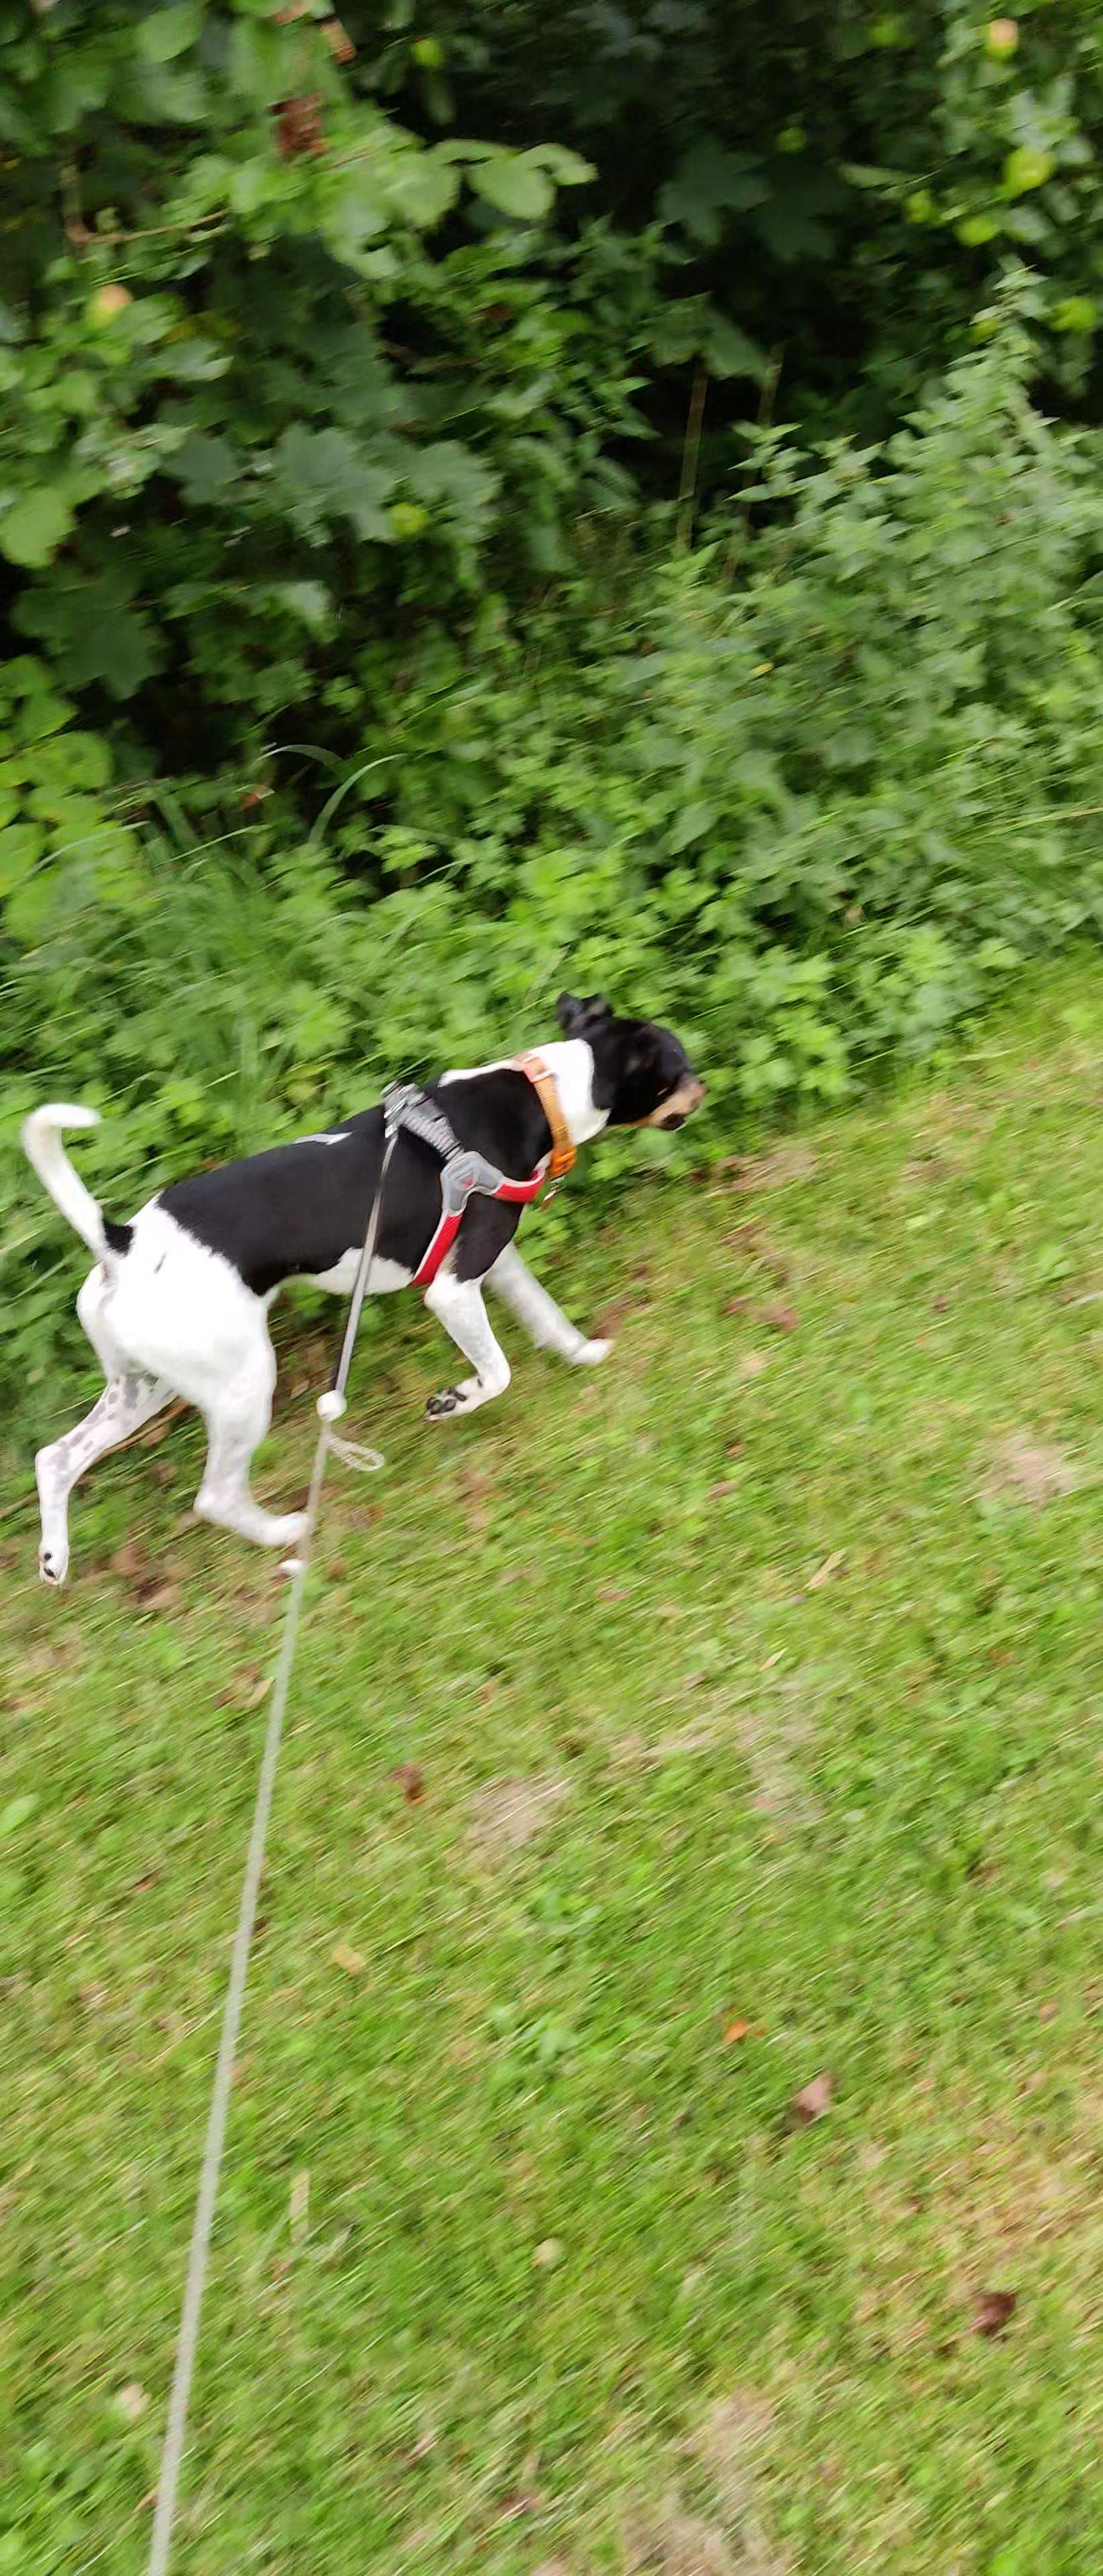Dog: (0, 989, 715, 1590)
